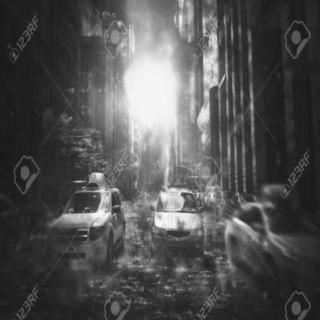Fire: (116, 54, 192, 144)
